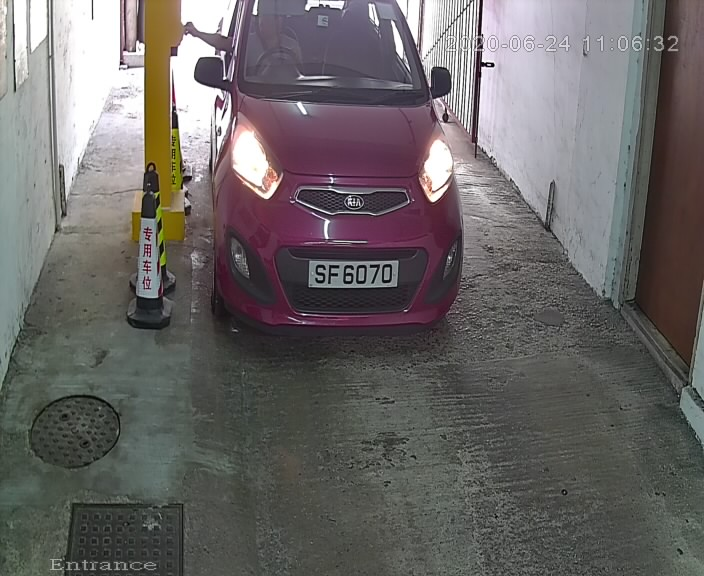Car: (184, 1, 477, 356)
License Plate: (301, 257, 405, 293)
